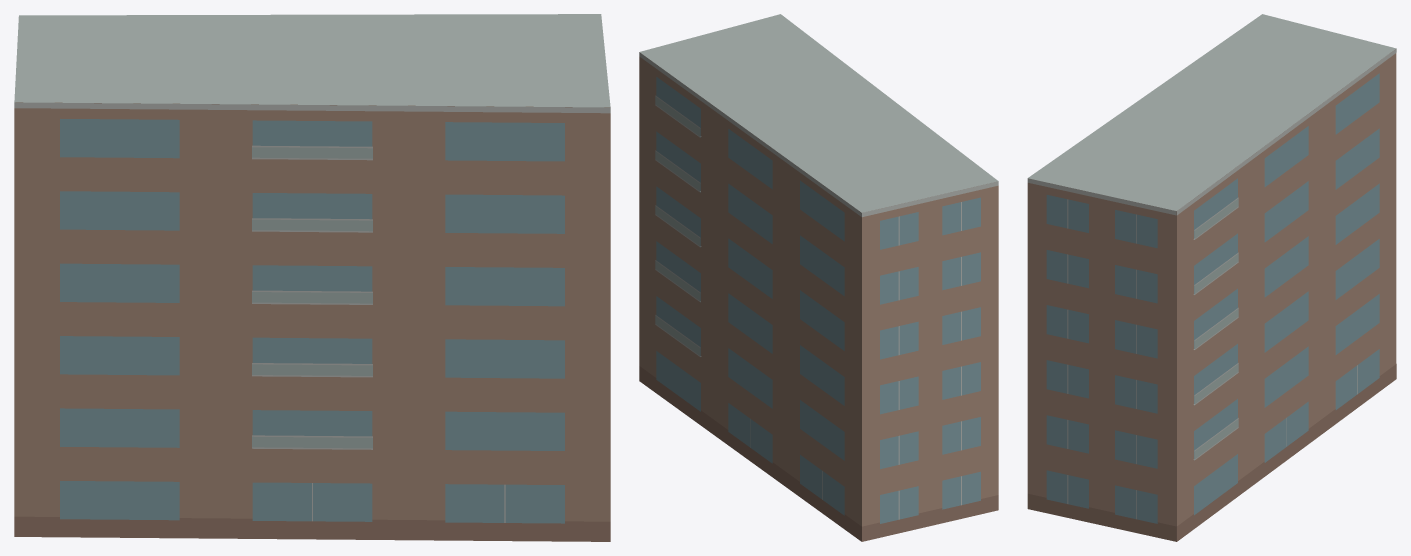
The model's file is survey-upis-32888849.glb.
The picture shows the model from 3 angles, left to right: view 1: azimuth 30°, elevation 25°; view 2: azimuth 150°, elevation 25°; view 3: azimuth 270°, elevation 25°; orthographic projection. The views are drawn at different scales.
Visible parts, largest first — view 1: survey-upis-32888849.tmp; view 2: survey-upis-32888849.tmp; view 3: survey-upis-32888849.tmp.
Boxes of the visible parts, left/top/right/bottom form: survey-upis-32888849.tmp: left=14, top=14, right=610, bottom=541; survey-upis-32888849.tmp: left=639, top=14, right=998, bottom=541; survey-upis-32888849.tmp: left=1027, top=14, right=1396, bottom=541.
Size of the model in its own units: 23.4 by 18.3 by 18.51.
